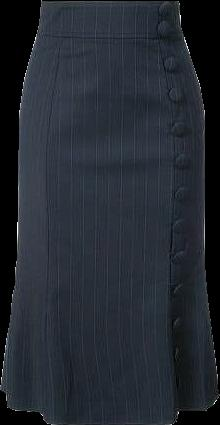Hemline: (0, 386, 219, 424)
Waistline: (36, 31, 186, 43), (40, 0, 179, 6)
